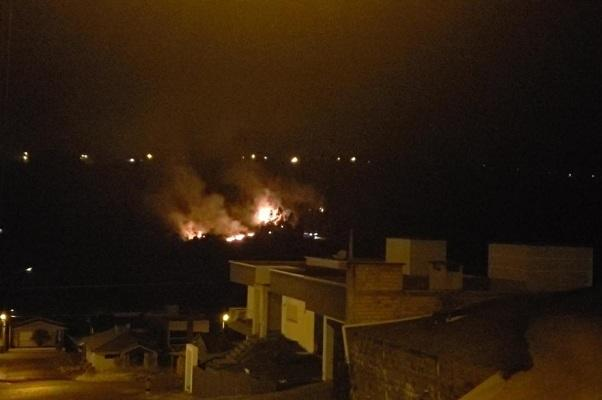fire: (256, 205, 278, 223)
